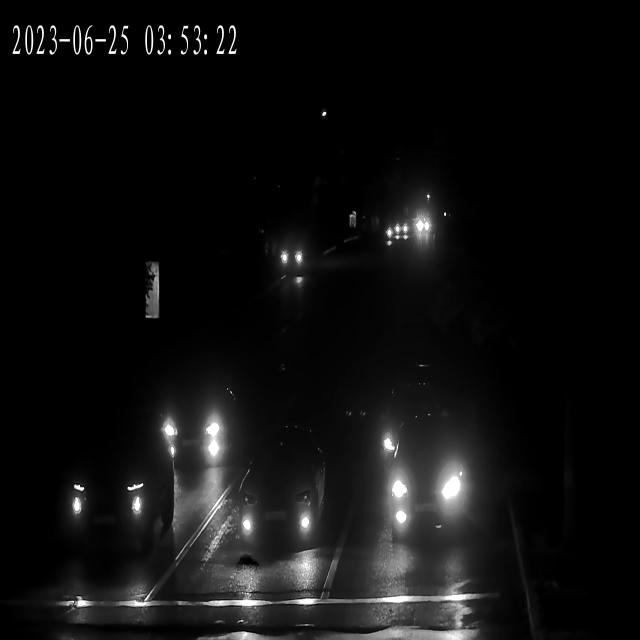Car: (53, 437, 164, 548), (224, 440, 328, 550), (379, 435, 472, 538), (152, 376, 237, 467), (276, 242, 309, 277), (382, 221, 406, 244), (386, 219, 410, 239), (385, 223, 409, 243), (411, 220, 434, 240), (411, 216, 434, 235)
